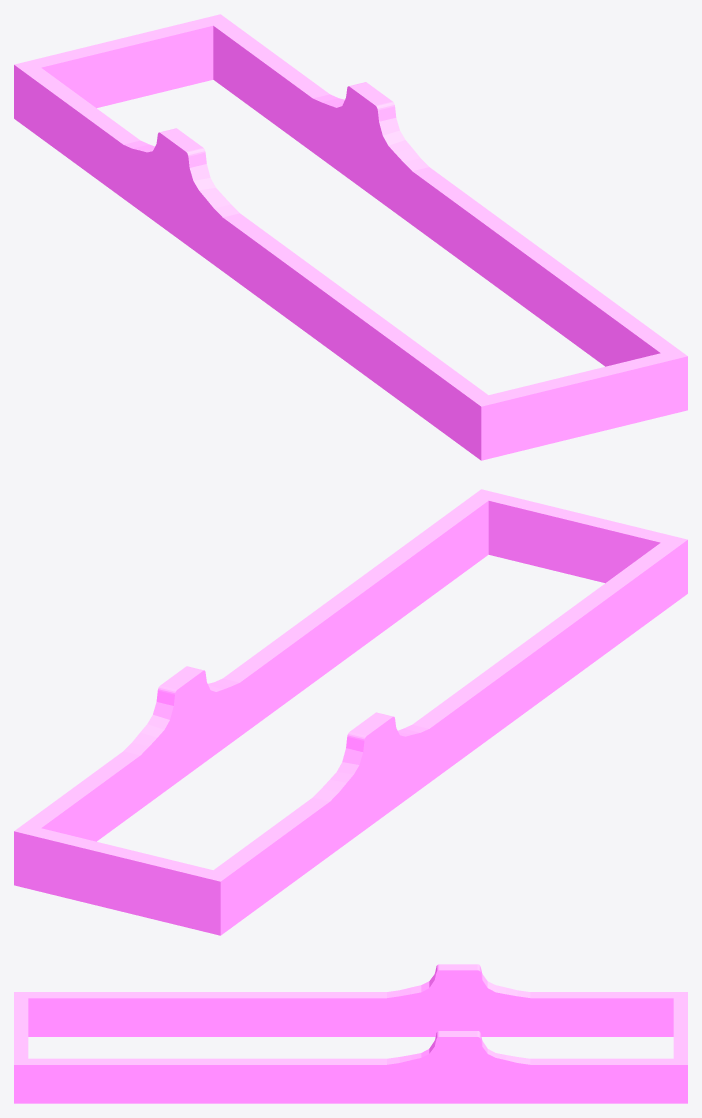
Rendered from Hole 2 Trim.glb.
The picture shows the model from 3 angles, top to bottom: view 1: azimuth 30°, elevation 25°; view 2: azimuth 150°, elevation 25°; view 3: azimuth 270°, elevation 25°; orthographic projection. The views are drawn at different scales.
Parts seen in each view (by area): view 1: Hole 2 Trim; view 2: Hole 2 Trim; view 3: Hole 2 Trim.
Part boxes in pixels (x1,y1,x2,y2): Hole 2 Trim: [14, 14, 687, 460]; Hole 2 Trim: [14, 489, 687, 935]; Hole 2 Trim: [14, 964, 687, 1103].
Size of what is drawn, in the model's own units: 2.4 by 1.03 by 9.4.
